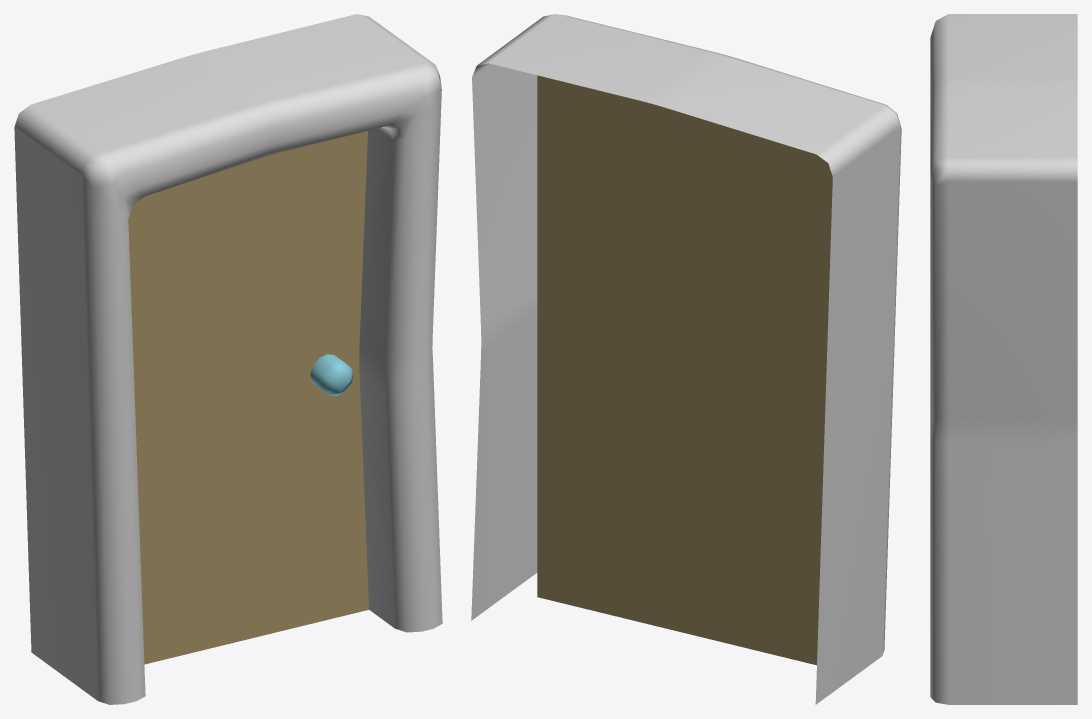
Rendered from porte_b.fbx.
3 views of the same model, side by side, from view 1: azimuth 30°, elevation 25°; view 2: azimuth 150°, elevation 25°; view 3: azimuth 270°, elevation 25° (orthographic). The views are drawn at different scales.
Parts seen in each view (by area): view 1: porte_02; view 2: porte_02; view 3: porte_02.
Part boxes in pixels (x1=…): porte_02: x1=14, y1=14, x2=442, y2=704; porte_02: x1=471, y1=14, x2=901, y2=704; porte_02: x1=930, y1=14, x2=1077, y2=704.
Size of the model in its own units: 2.32 by 3.45 by 0.8529.
